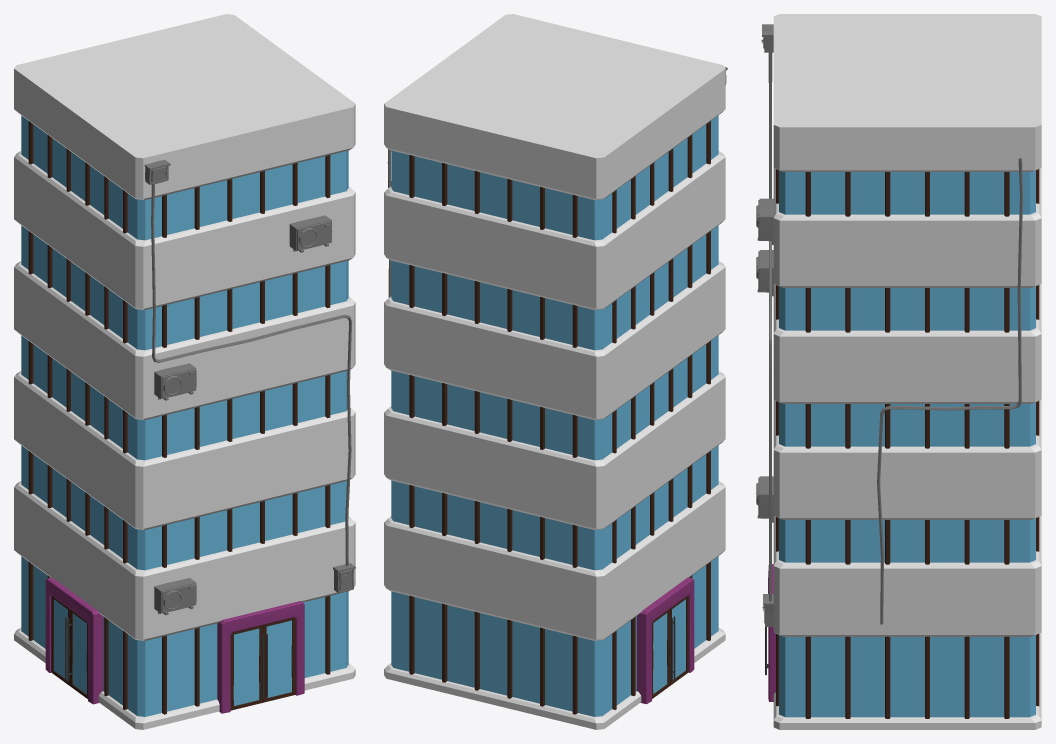
The model's file is SM_building_tall_01.fbx.
The picture shows the model from 3 angles, left to right: view 1: azimuth 30°, elevation 25°; view 2: azimuth 150°, elevation 25°; view 3: azimuth 270°, elevation 25°; orthographic projection. The views are drawn at different scales.
Parts seen in each view (by area): view 1: Object32335; view 2: Object32335; view 3: Object32335.
Part boxes in pixels (x1,y1,x2,y2): Object32335: [14, 14, 355, 729]; Object32335: [384, 14, 727, 729]; Object32335: [756, 14, 1041, 729].
Bounding box in the file's own units: 290 × 685 × 293.
